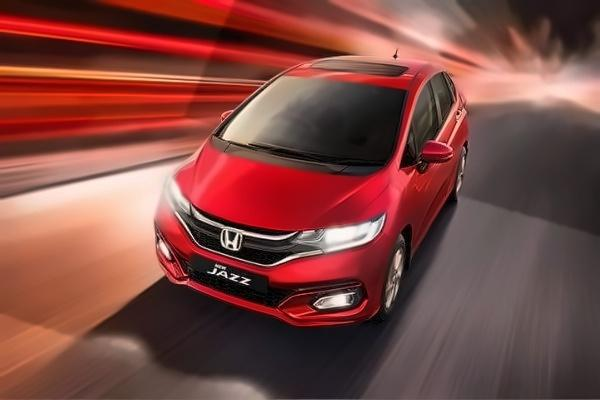Car hood: (171, 138, 392, 235)
Fender - -F-L-: (349, 160, 416, 264)
Front bumper: (138, 209, 393, 337)
Headlight - -L-: (286, 208, 393, 256)
Headlight - -R-: (159, 173, 196, 218)
Passenger-s door - -F-L-: (408, 78, 444, 245)
Passenger-s door - -R-L-: (430, 67, 467, 212)
Side bumper - -L-: (406, 176, 463, 267)
Side mirror - -L-: (416, 135, 457, 172)
Side mirror - -R-: (214, 104, 238, 131)
